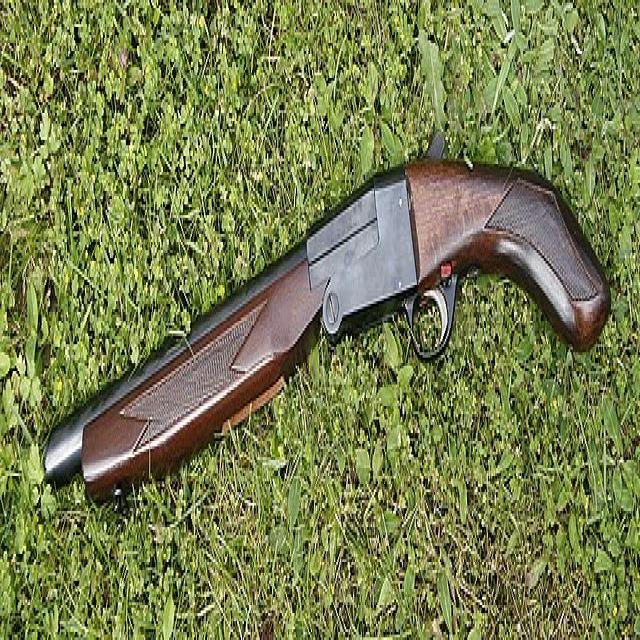Weapon: (39, 121, 614, 551)
